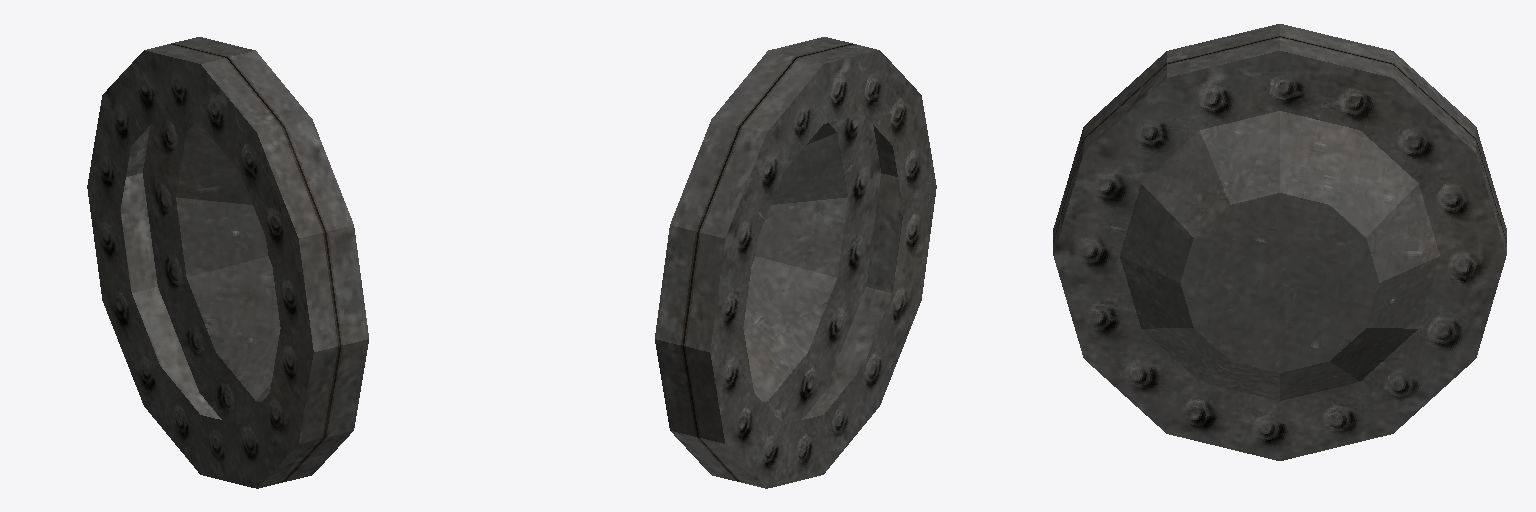
The picture shows the model from 3 angles: view 1: azimuth 30°, elevation 25°; view 2: azimuth 150°, elevation 25°; view 3: azimuth 270°, elevation 25°; orthographic projection.
Visible parts, largest first — view 1: endpiece; view 2: endpiece; view 3: endpiece.
Part boxes in pixels (left/top/right/bottom): endpiece: left=87, top=37, right=368, bottom=488; endpiece: left=655, top=37, right=936, bottom=488; endpiece: left=1053, top=24, right=1506, bottom=460.
Bounding box in the file's own units: 0.2 × 0.7071 × 0.7071.
Materials: 1 (1 with a texture image).